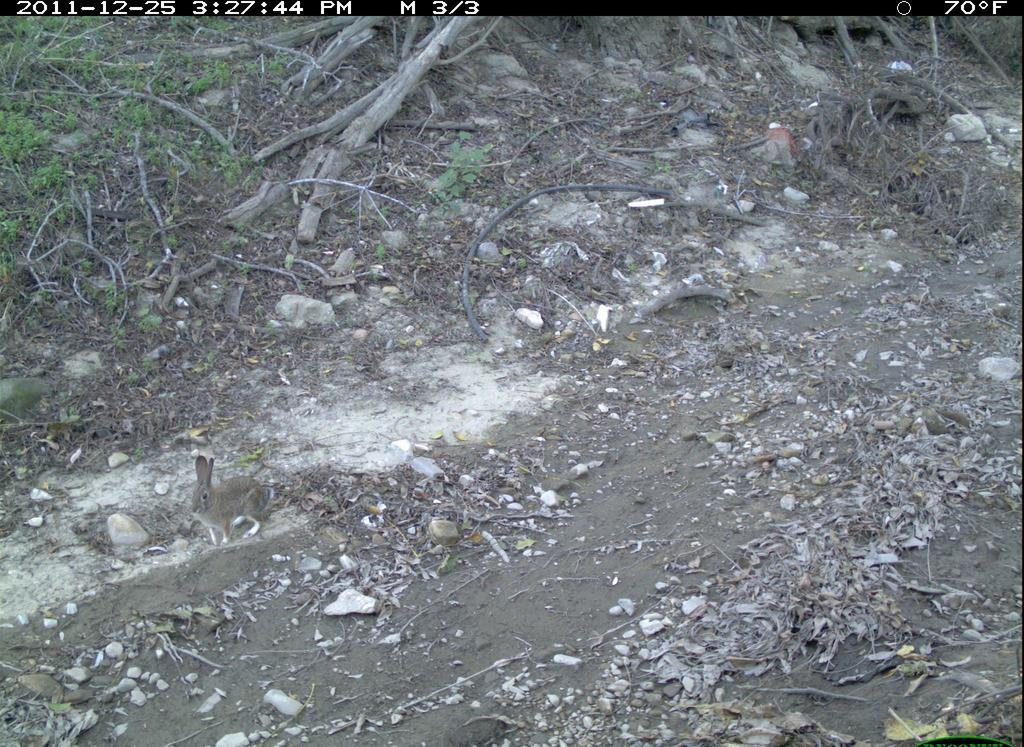rabbit: (180, 451, 282, 551)
